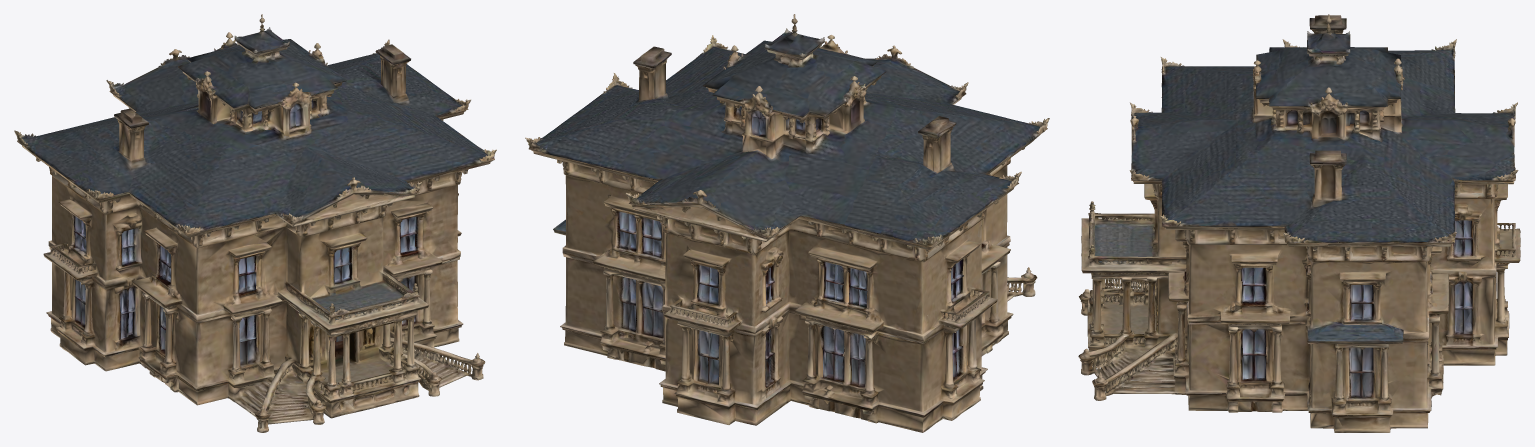
File: wade-randall.glb
3 renders of one model, left to right at view 1: azimuth 30°, elevation 25°; view 2: azimuth 150°, elevation 25°; view 3: azimuth 270°, elevation 25°, orthographic. The views are drawn at different scales.
Visible parts, largest first — view 1: tripo_node_cf198e3c-0ee8-4055-a126-96daff5349a9; view 2: tripo_node_cf198e3c-0ee8-4055-a126-96daff5349a9; view 3: tripo_node_cf198e3c-0ee8-4055-a126-96daff5349a9.
Part boxes in pixels (x1,y1,x2,y2): tripo_node_cf198e3c-0ee8-4055-a126-96daff5349a9: (14,14,496,432); tripo_node_cf198e3c-0ee8-4055-a126-96daff5349a9: (525,14,1049,432); tripo_node_cf198e3c-0ee8-4055-a126-96daff5349a9: (1078,14,1520,432).
Size of the model in its own units: 0.9798 by 0.7746 by 0.9434.
Materials: 1 (1 with a texture image).
